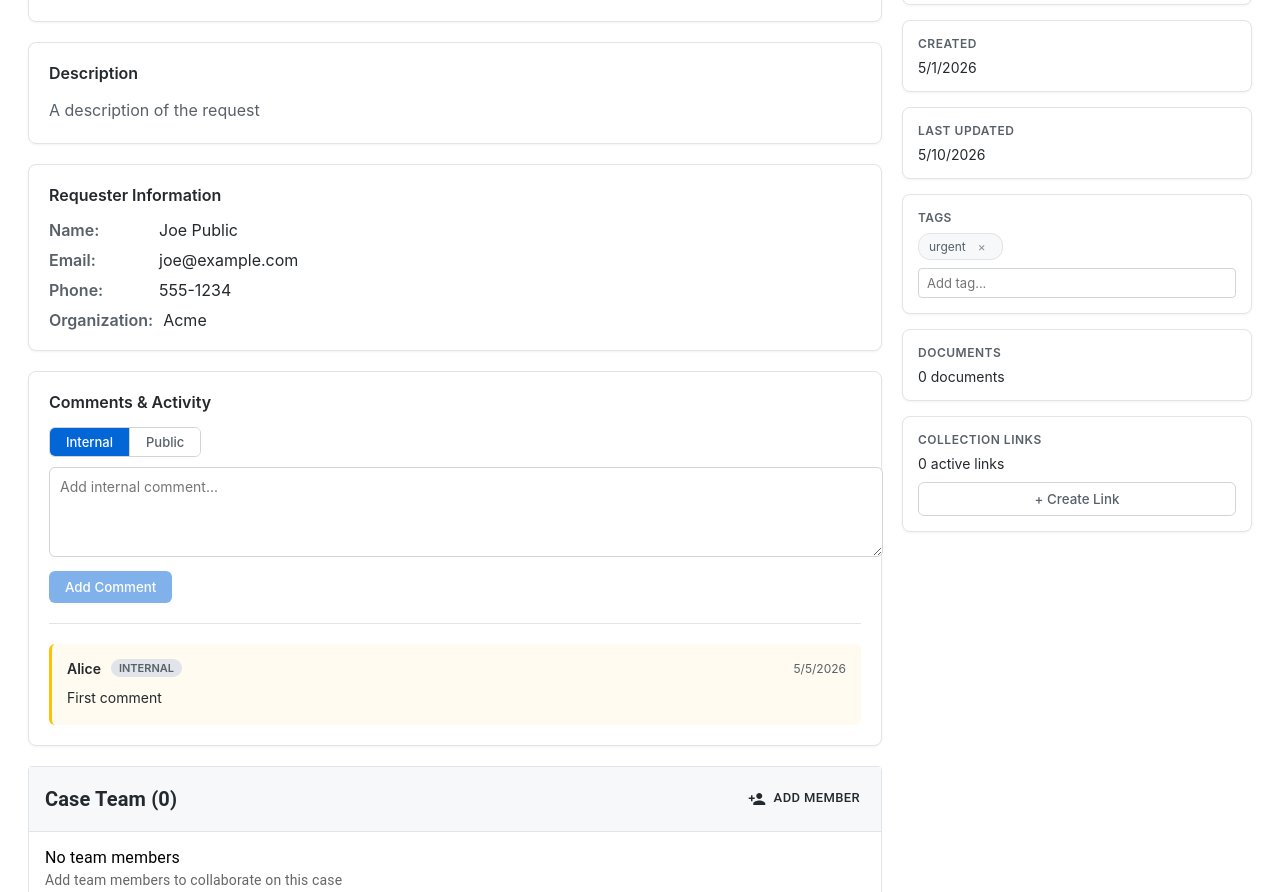
CaseDetailView — comments › switches to public comment type and applies a template
The image size is (1280, 892).
(page scrolled)
Click the button "Public".
click(165, 442)  # box [130, 428, 200, 456]
(page scrolled)
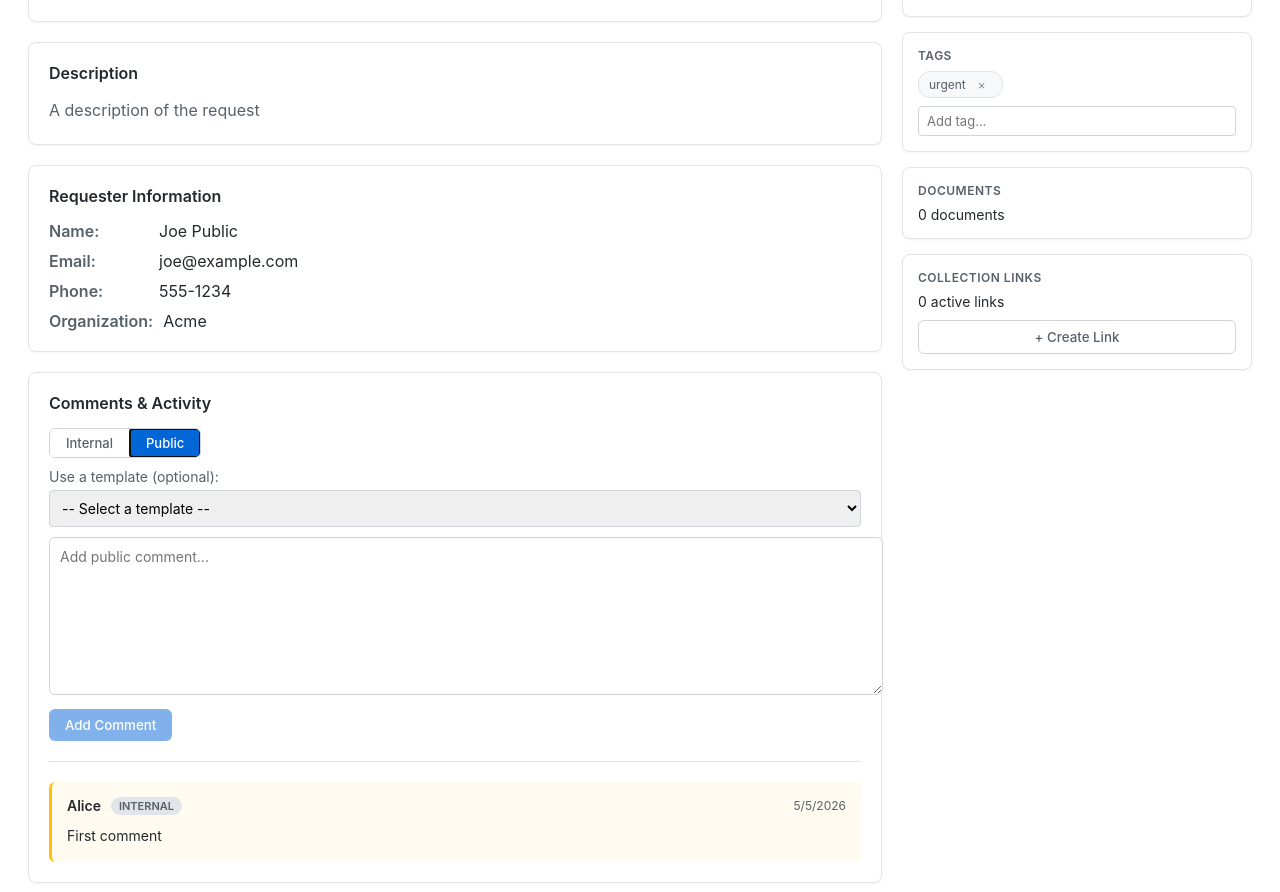
Select "Acknowledgement (public)" in the dropdown labelled "Use a template (optional):" at point(455, 508), box [49, 490, 861, 527]
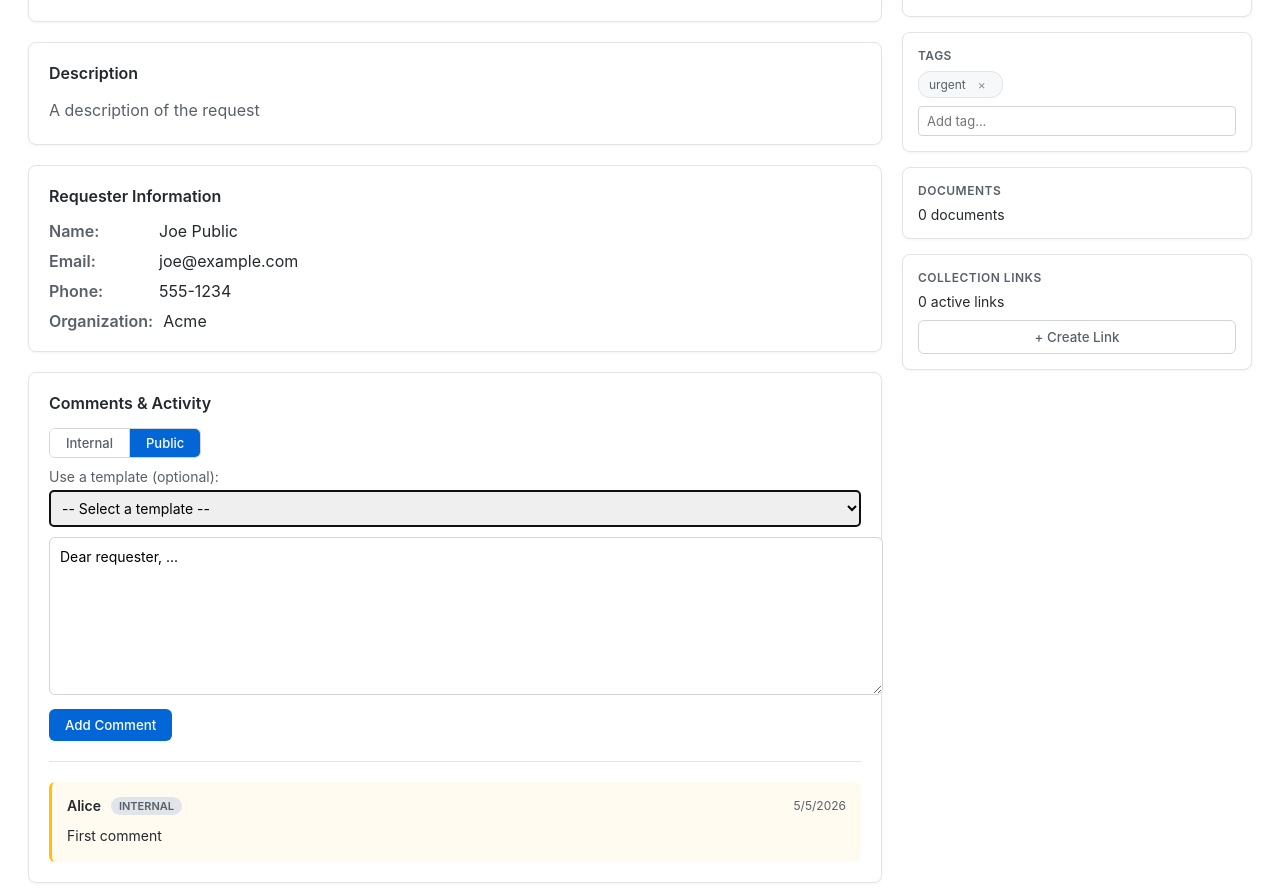
Result: the text box showing "Dear requester, ..." is shown at [49, 537, 883, 695]
